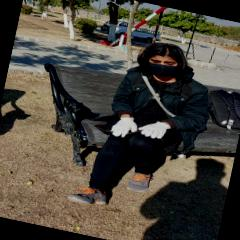gloved: (109, 114, 138, 140), (139, 118, 171, 141)
